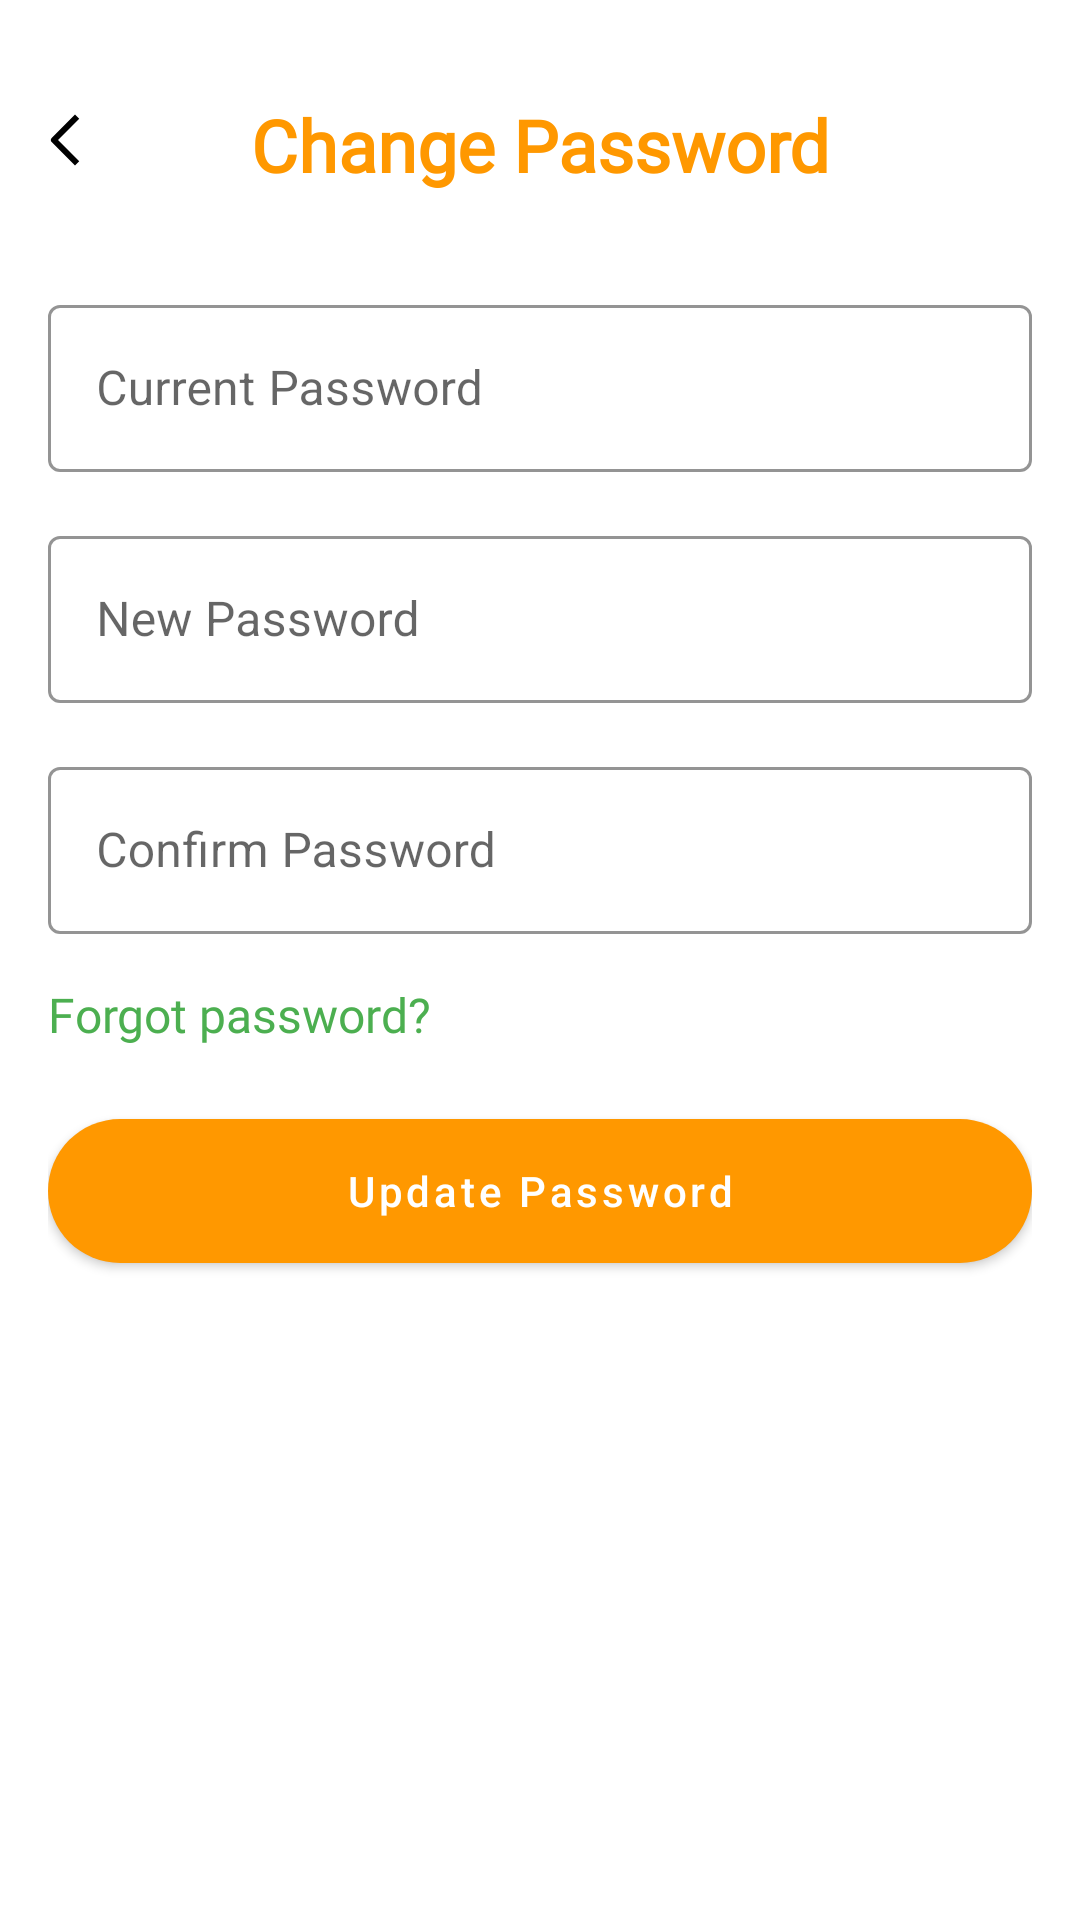

Where to tap for icons on this 1080w x 1920h app screen, as (x,y):
back: (64,140)
